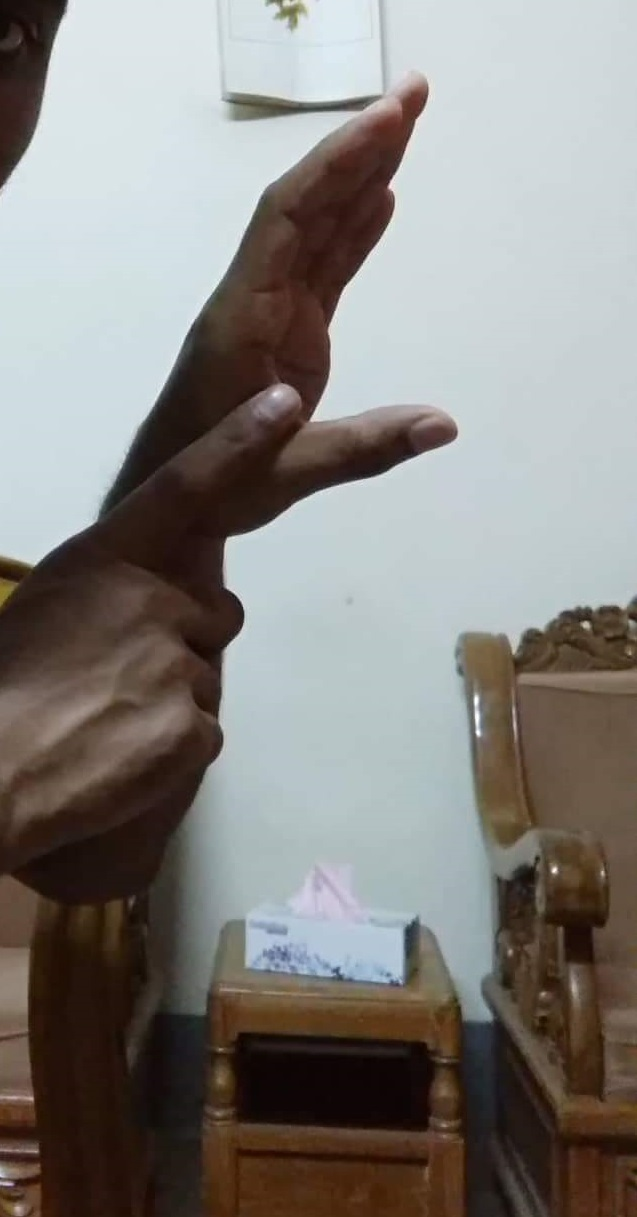dh: (93, 73, 451, 821)
